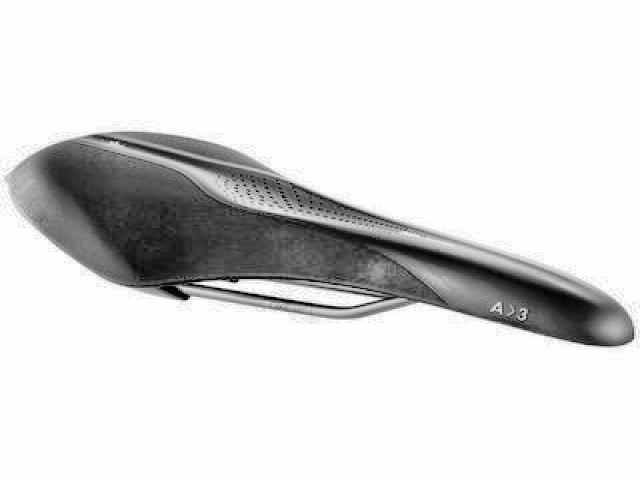saddle: (3, 126, 638, 350)
